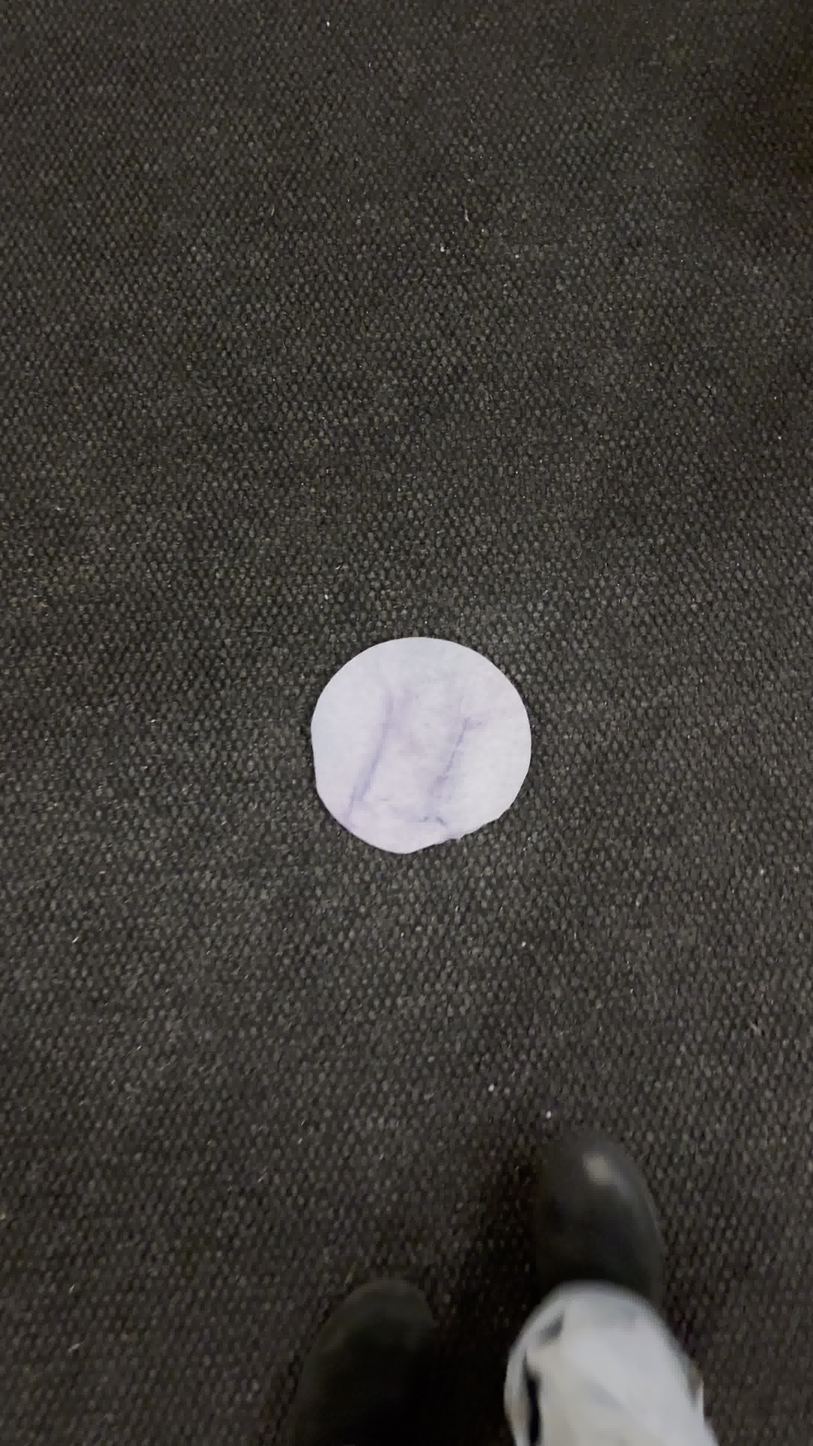Target: (309, 637, 535, 852)
